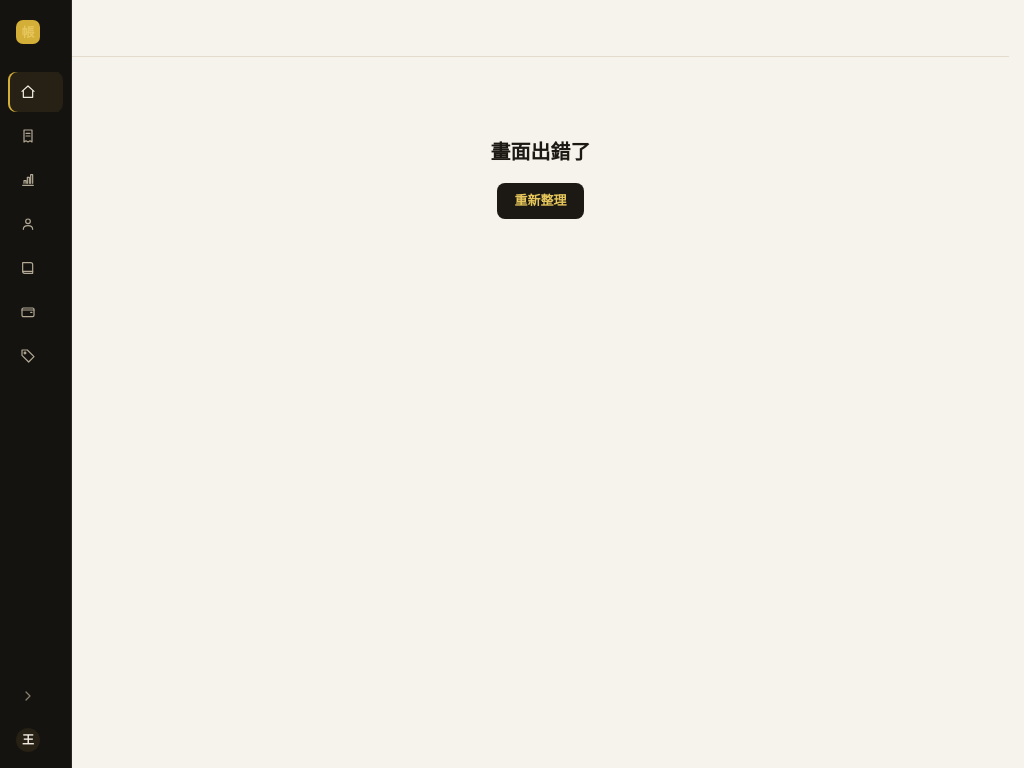
it: UserMenu › offers settings, profile, and sign out
Click the button named "王小明的選單" at (36, 740), box [8,720,63,760]
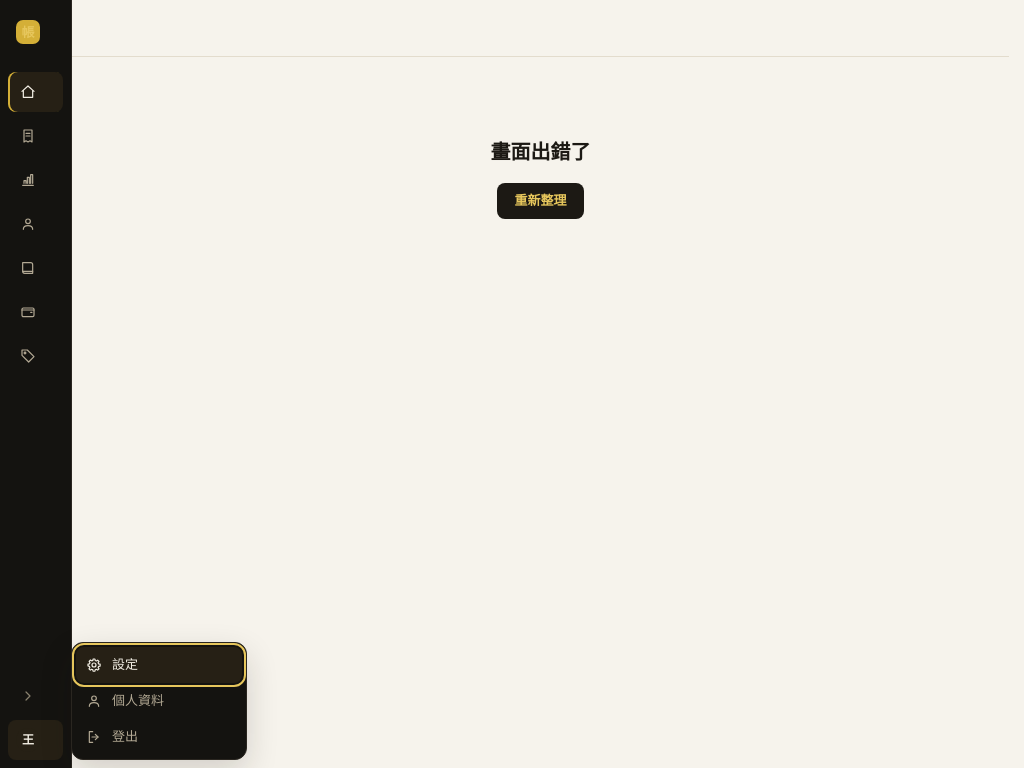
Now the button "設定" is shown, box [76,647,242,683]
Now the button "登出" is shown, box [76,719,242,755]
